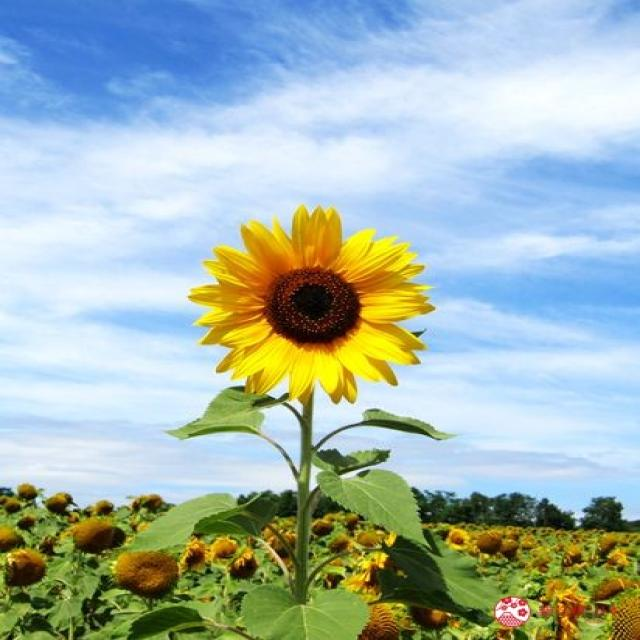sunflower: (182, 192, 442, 403)
